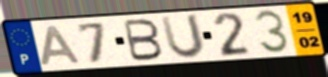2: (212, 11, 253, 58)
3: (252, 8, 292, 56)
7: (76, 21, 109, 65)
A: (38, 24, 83, 67)
B: (122, 18, 166, 63)
U: (158, 13, 208, 61)
